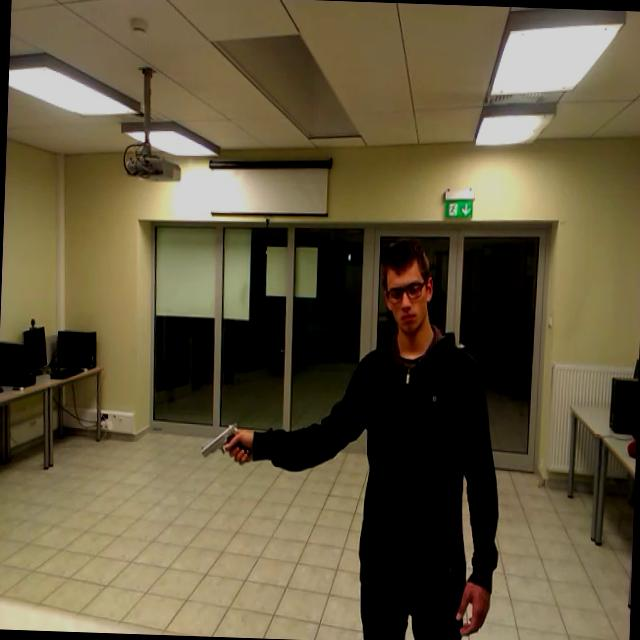handgun: (194, 411, 256, 484)
